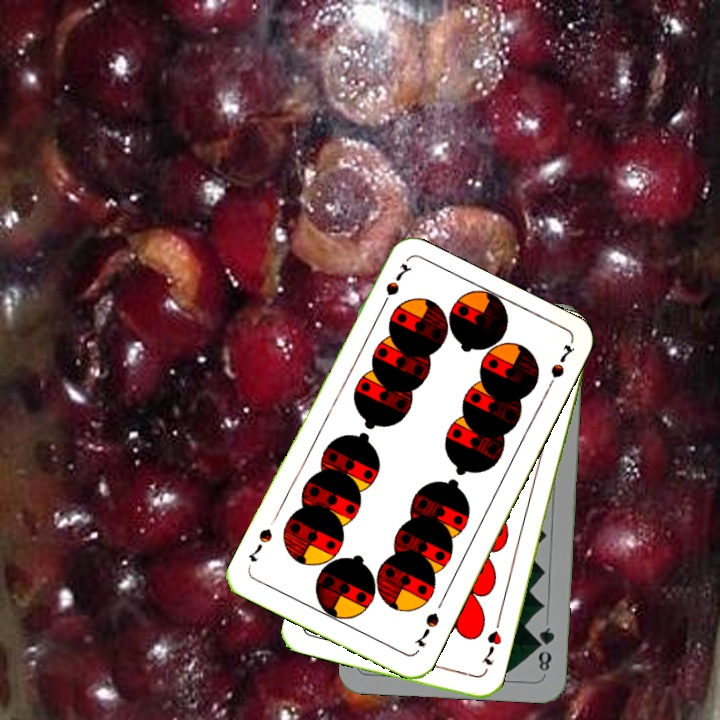G8: (533, 623, 558, 674)
H7: (477, 626, 504, 668)
S7: (376, 259, 414, 313), (410, 608, 442, 650)
